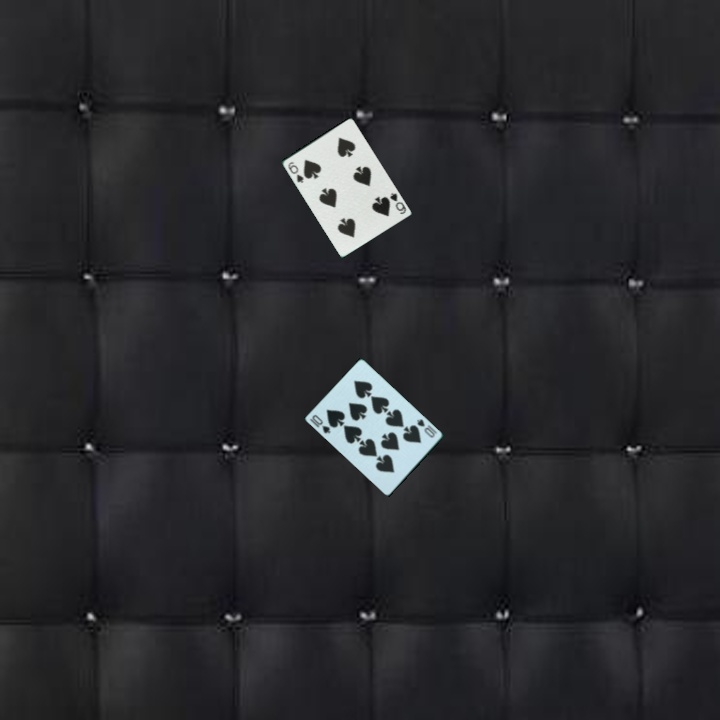10s: (414, 416, 440, 441), (307, 411, 333, 436)
6s: (386, 189, 409, 217), (284, 158, 306, 186)
